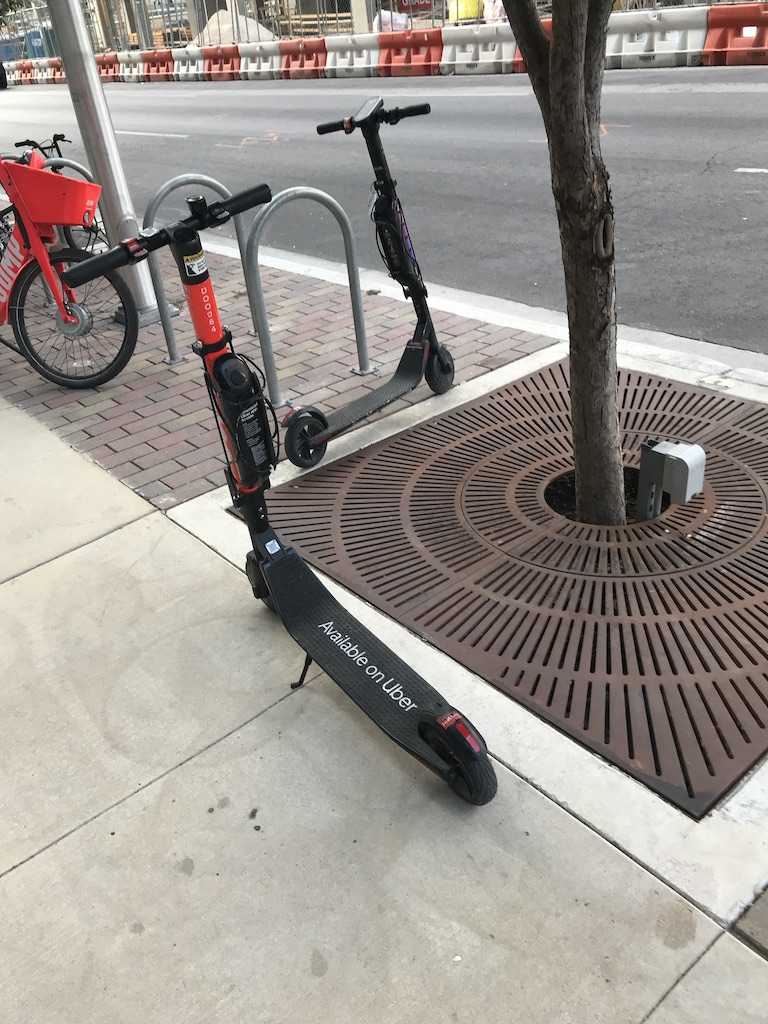scooter: (60, 180, 500, 807), (279, 96, 459, 472)
